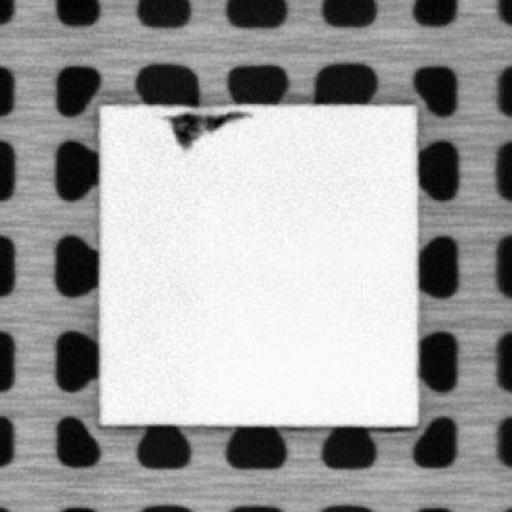DIE_INK: (162, 109, 250, 150)
